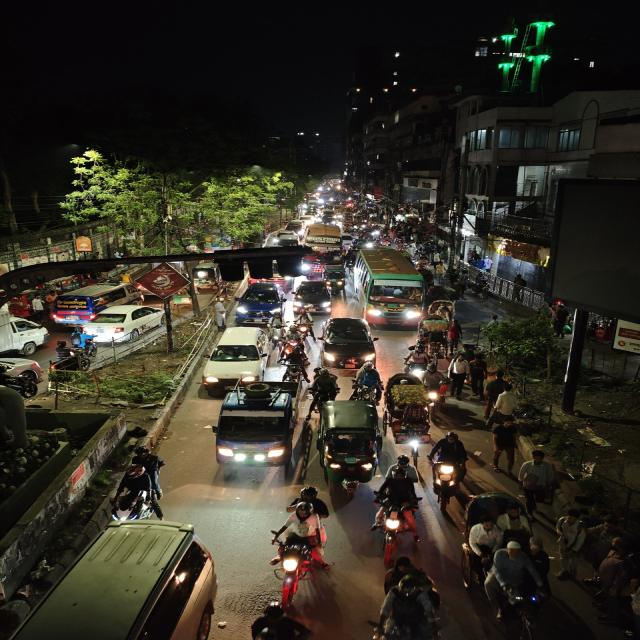bus: (351, 247, 426, 329), (302, 224, 345, 254)
car: (0, 521, 230, 640), (200, 324, 274, 386), (46, 279, 145, 321), (82, 304, 172, 344), (317, 314, 379, 368), (228, 285, 286, 322), (292, 280, 335, 314), (270, 231, 300, 247)
cng: (319, 398, 382, 492), (324, 269, 348, 287)
motorcycle: (271, 489, 328, 591), (372, 454, 421, 546), (107, 450, 168, 522), (429, 430, 473, 502), (312, 366, 341, 404), (403, 346, 432, 379), (290, 309, 314, 339)
pedestrian: (516, 448, 557, 507), (488, 417, 523, 472), (483, 371, 514, 422), (446, 352, 472, 398), (466, 353, 490, 396)
pickup_van: (204, 378, 317, 472)
rickshaw: (382, 374, 433, 450), (414, 314, 449, 352), (429, 299, 458, 321)
